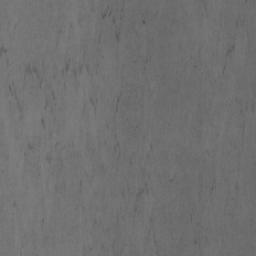Silk spot: (0, 0, 256, 256), (222, 0, 248, 75), (228, 97, 254, 171), (7, 218, 49, 256)
